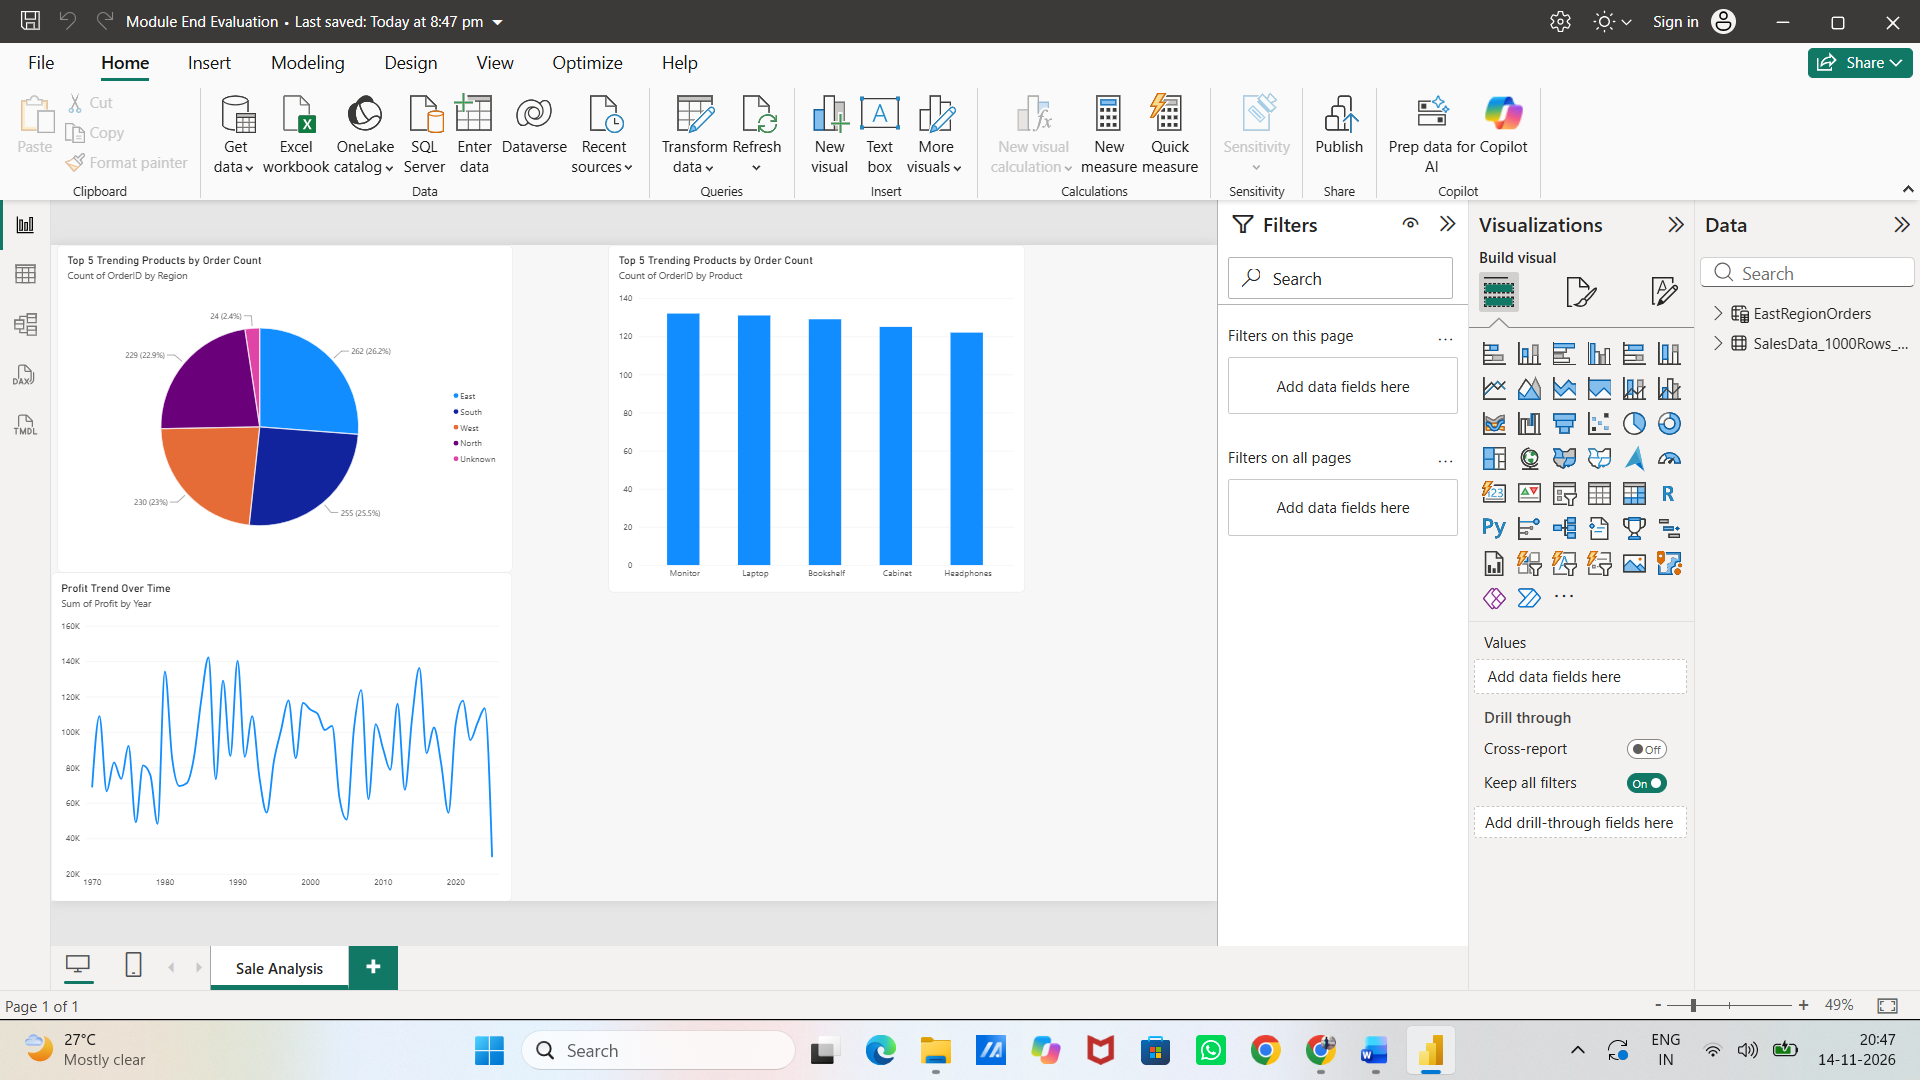

Layout of this report page (visuals, bound fields, positions):
{"tool":"powerbi","page":{"name":"Sale Analysis","canvas":[1920,1080],"ordinal":0},"visuals":[{"type":"pieChart","title":"Top 5 Trending Products by Order Count","fields":{"Category":["SalesData_1000Rows_WithIssues_copy.Region"],"Y":["CountNonNull(SalesData_1000Rows_WithIssues_copy.OrderID)"]},"box":[10.3,0,749.2,539.3],"z":0},{"type":"clusteredColumnChart","title":"Top 5 Trending Products by Order Count","fields":{"Category":["SalesData_1000Rows_WithIssues_copy.Product"],"Y":["CountNonNull(SalesData_1000Rows_WithIssues_copy.OrderID)"]},"box":[918,0,685.4,572.2],"z":1000},{"type":"lineChart","title":"Profit Trend Over Time","fields":{"Category":["SalesData_1000Rows_WithIssues_copy.OrderDate.Variation.Date Hierarchy.Year","SalesData_1000Rows_WithIssues_copy.OrderDate.Variation.Date Hierarchy.Quarter","SalesData_1000Rows_WithIssues_copy.OrderDate.Variation.Date Hierarchy.Month","SalesData_1000Rows_WithIssues_copy.OrderDate.Variation.Date Hierarchy.Day"],"Y":["Sum(SalesData_1000Rows_WithIssues_copy.Profit)"]},"box":[0,539.3,759.5,541.3],"z":2000}]}

Visuals, with their boxes on the page's 1920x1080 design canvas (x1, y1, x2, y2). These are canvas units, not pixel positions in the 1920x1080 screenshot, which may show the page scaled, cropped or inside an application window:
"Top 5 Trending Products by Order Count" pieChart: 10:0:760:539
"Top 5 Trending Products by Order Count" clusteredColumnChart: 918:0:1603:572
"Profit Trend Over Time" lineChart: 0:539:760:1081
